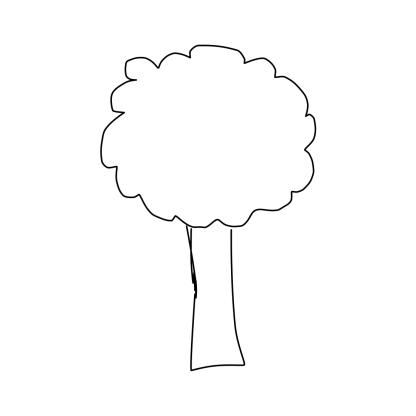crown_cloud: (97, 41, 319, 232)
trunk_straight: (180, 244, 252, 340)
